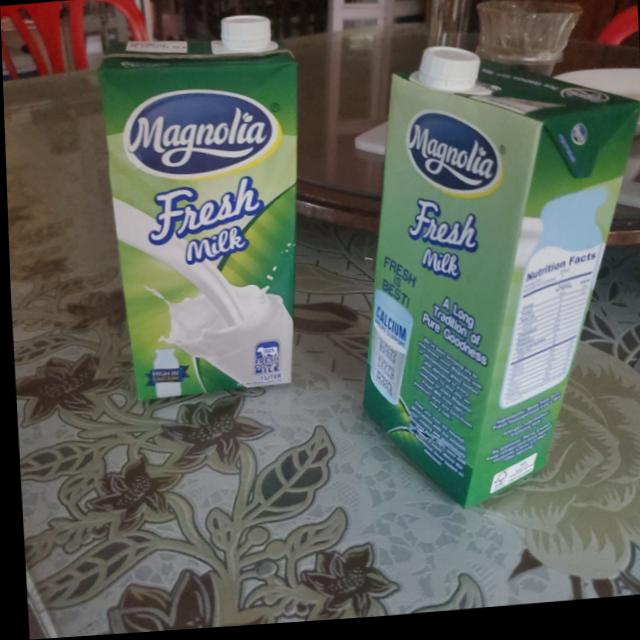milk: (340, 39, 640, 526), (91, 15, 308, 407)
